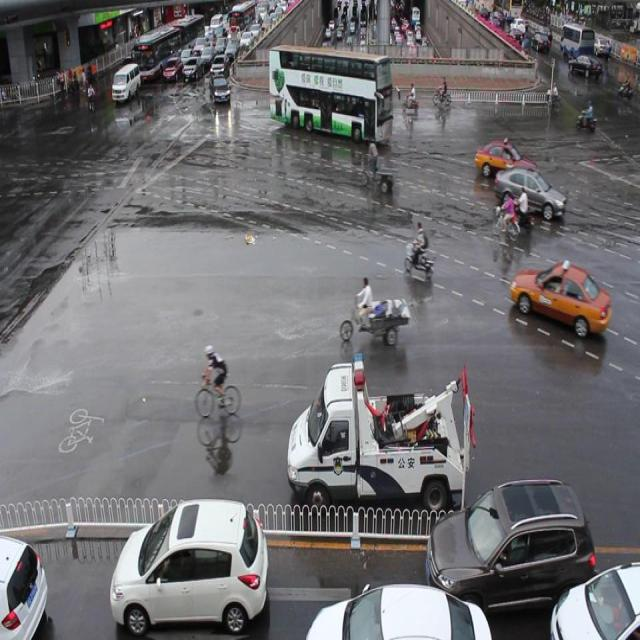bus: (287, 352, 473, 518)
car: (425, 478, 596, 618), (112, 498, 268, 629), (304, 583, 491, 640), (510, 258, 609, 336), (548, 563, 640, 640), (1, 532, 48, 640), (494, 167, 564, 221), (473, 139, 538, 181), (211, 74, 230, 106)
van: (268, 45, 392, 142)
